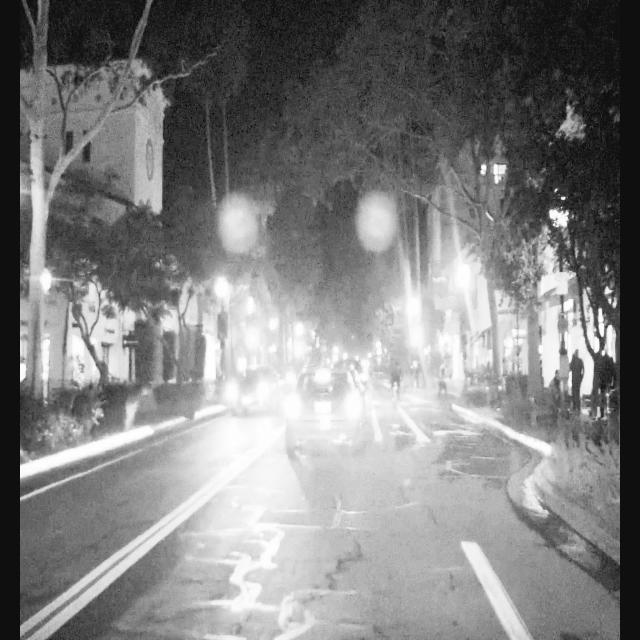Car: (286, 365, 366, 461)
Tree: (22, 0, 78, 452)
